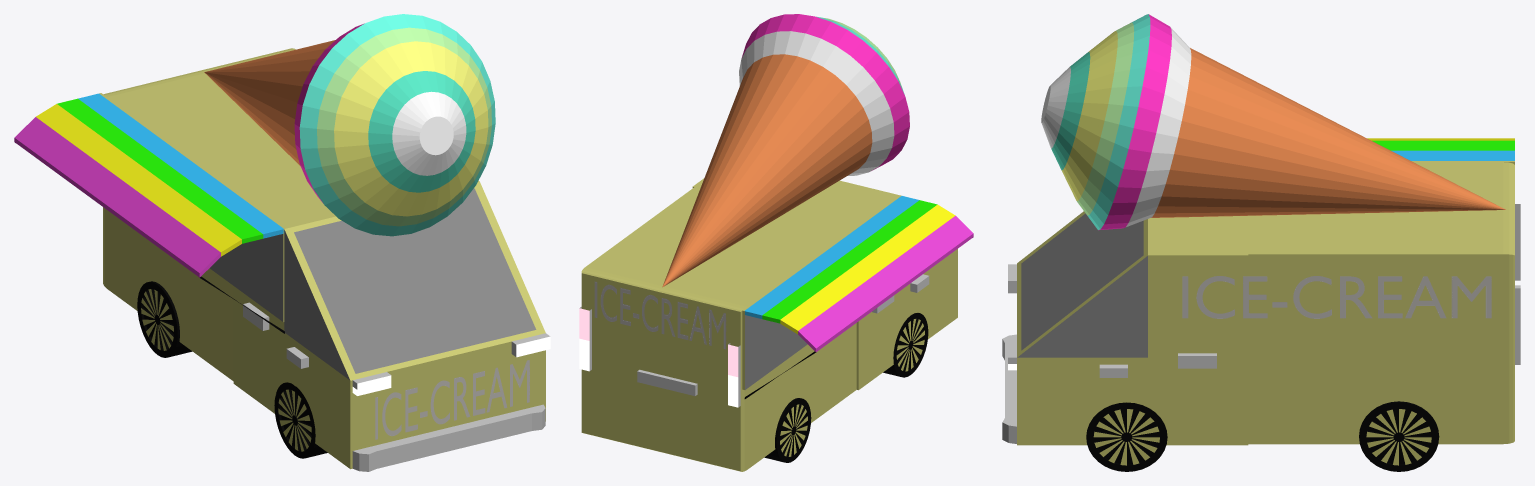
Rendered from ICE-CREAM TRUCK.glb.
The picture shows the model from 3 angles, left to right: view 1: azimuth 30°, elevation 25°; view 2: azimuth 150°, elevation 25°; view 3: azimuth 270°, elevation 25°; orthographic projection. The views are drawn at different scales.
Parts seen in each view (by area): view 1: Ice cream body; view 2: Ice cream body; view 3: Ice cream body.
Boxes of the visible parts, left/top/right/bottom form: Ice cream body: left=14, top=14, right=550, bottom=471; Ice cream body: left=579, top=14, right=973, bottom=471; Ice cream body: left=1002, top=14, right=1520, bottom=471.
Bounding box in the file's own units: 6.82 × 9.18 × 10.72.
22 materials, 1 textured.
